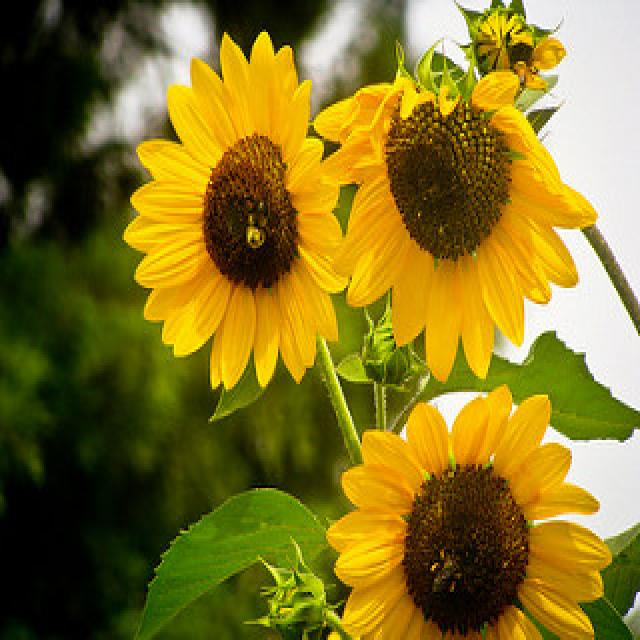sunflower: (309, 48, 603, 381), (120, 25, 354, 388), (323, 378, 615, 640)
